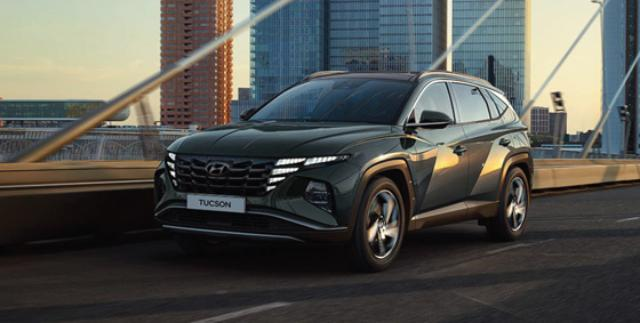hyundai: (152, 70, 534, 270)
